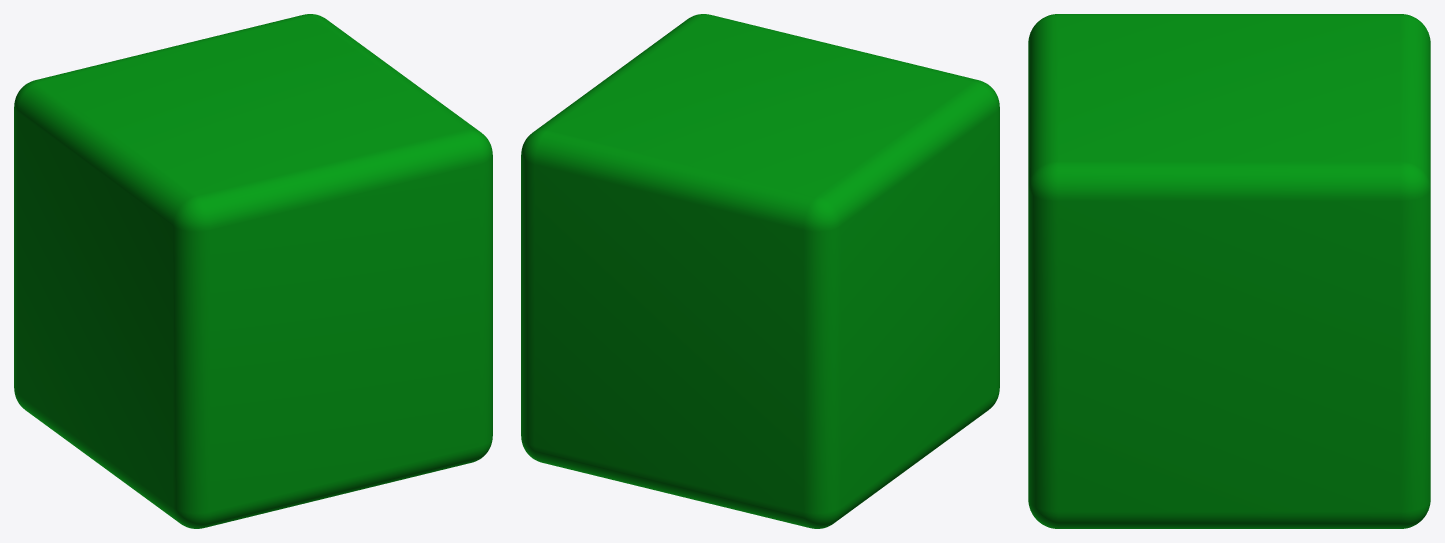
3 views of the same model, side by side, from view 1: azimuth 30°, elevation 25°; view 2: azimuth 150°, elevation 25°; view 3: azimuth 270°, elevation 25° (orthographic). The views are drawn at different scales.
Parts seen in each view (by area): view 1: Cube; view 2: Cube; view 3: Cube.
Part boxes in pixels (left/top/right/bottom): Cube: left=14, top=14, right=492, bottom=528; Cube: left=521, top=14, right=999, bottom=528; Cube: left=1028, top=14, right=1430, bottom=528.
Bounding box in the file's own units: 200 × 200 × 200.
